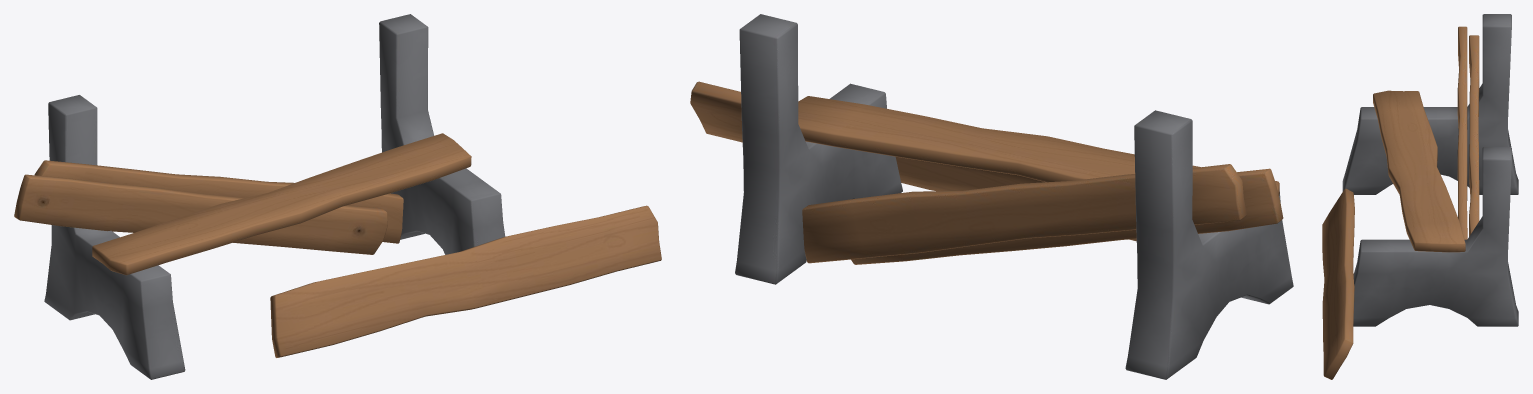
File: Bench Broken.fbx
The picture shows the model from 3 angles, left to right: view 1: azimuth 30°, elevation 25°; view 2: azimuth 150°, elevation 25°; view 3: azimuth 270°, elevation 25°; orthographic projection. The views are drawn at different scales.
Visible parts, largest first — view 1: Wooden Plankls Broken, Supports Broken; view 2: Wooden Plankls Broken, Supports Broken; view 3: Supports Broken, Wooden Plankls Broken.
Part boxes in pixels (<box>): Wooden Plankls Broken: <box>14,133,661,357</box>; Supports Broken: <box>44,14,505,379</box>; Wooden Plankls Broken: <box>690,81,1283,264</box>; Supports Broken: <box>735,14,1293,379</box>; Supports Broken: <box>1342,14,1518,326</box>; Wooden Plankls Broken: <box>1322,26,1479,379</box>.
Size of the model in its own units: 4.42 by 1.53 by 1.61.
